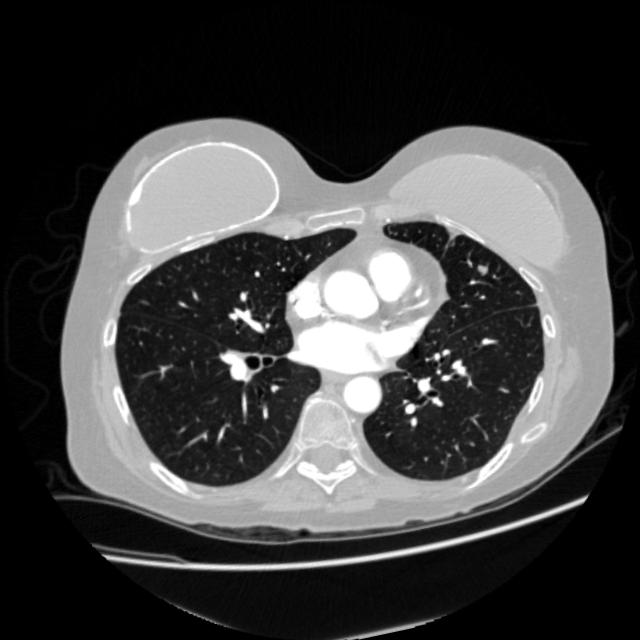nodule: (466, 252, 496, 282)
